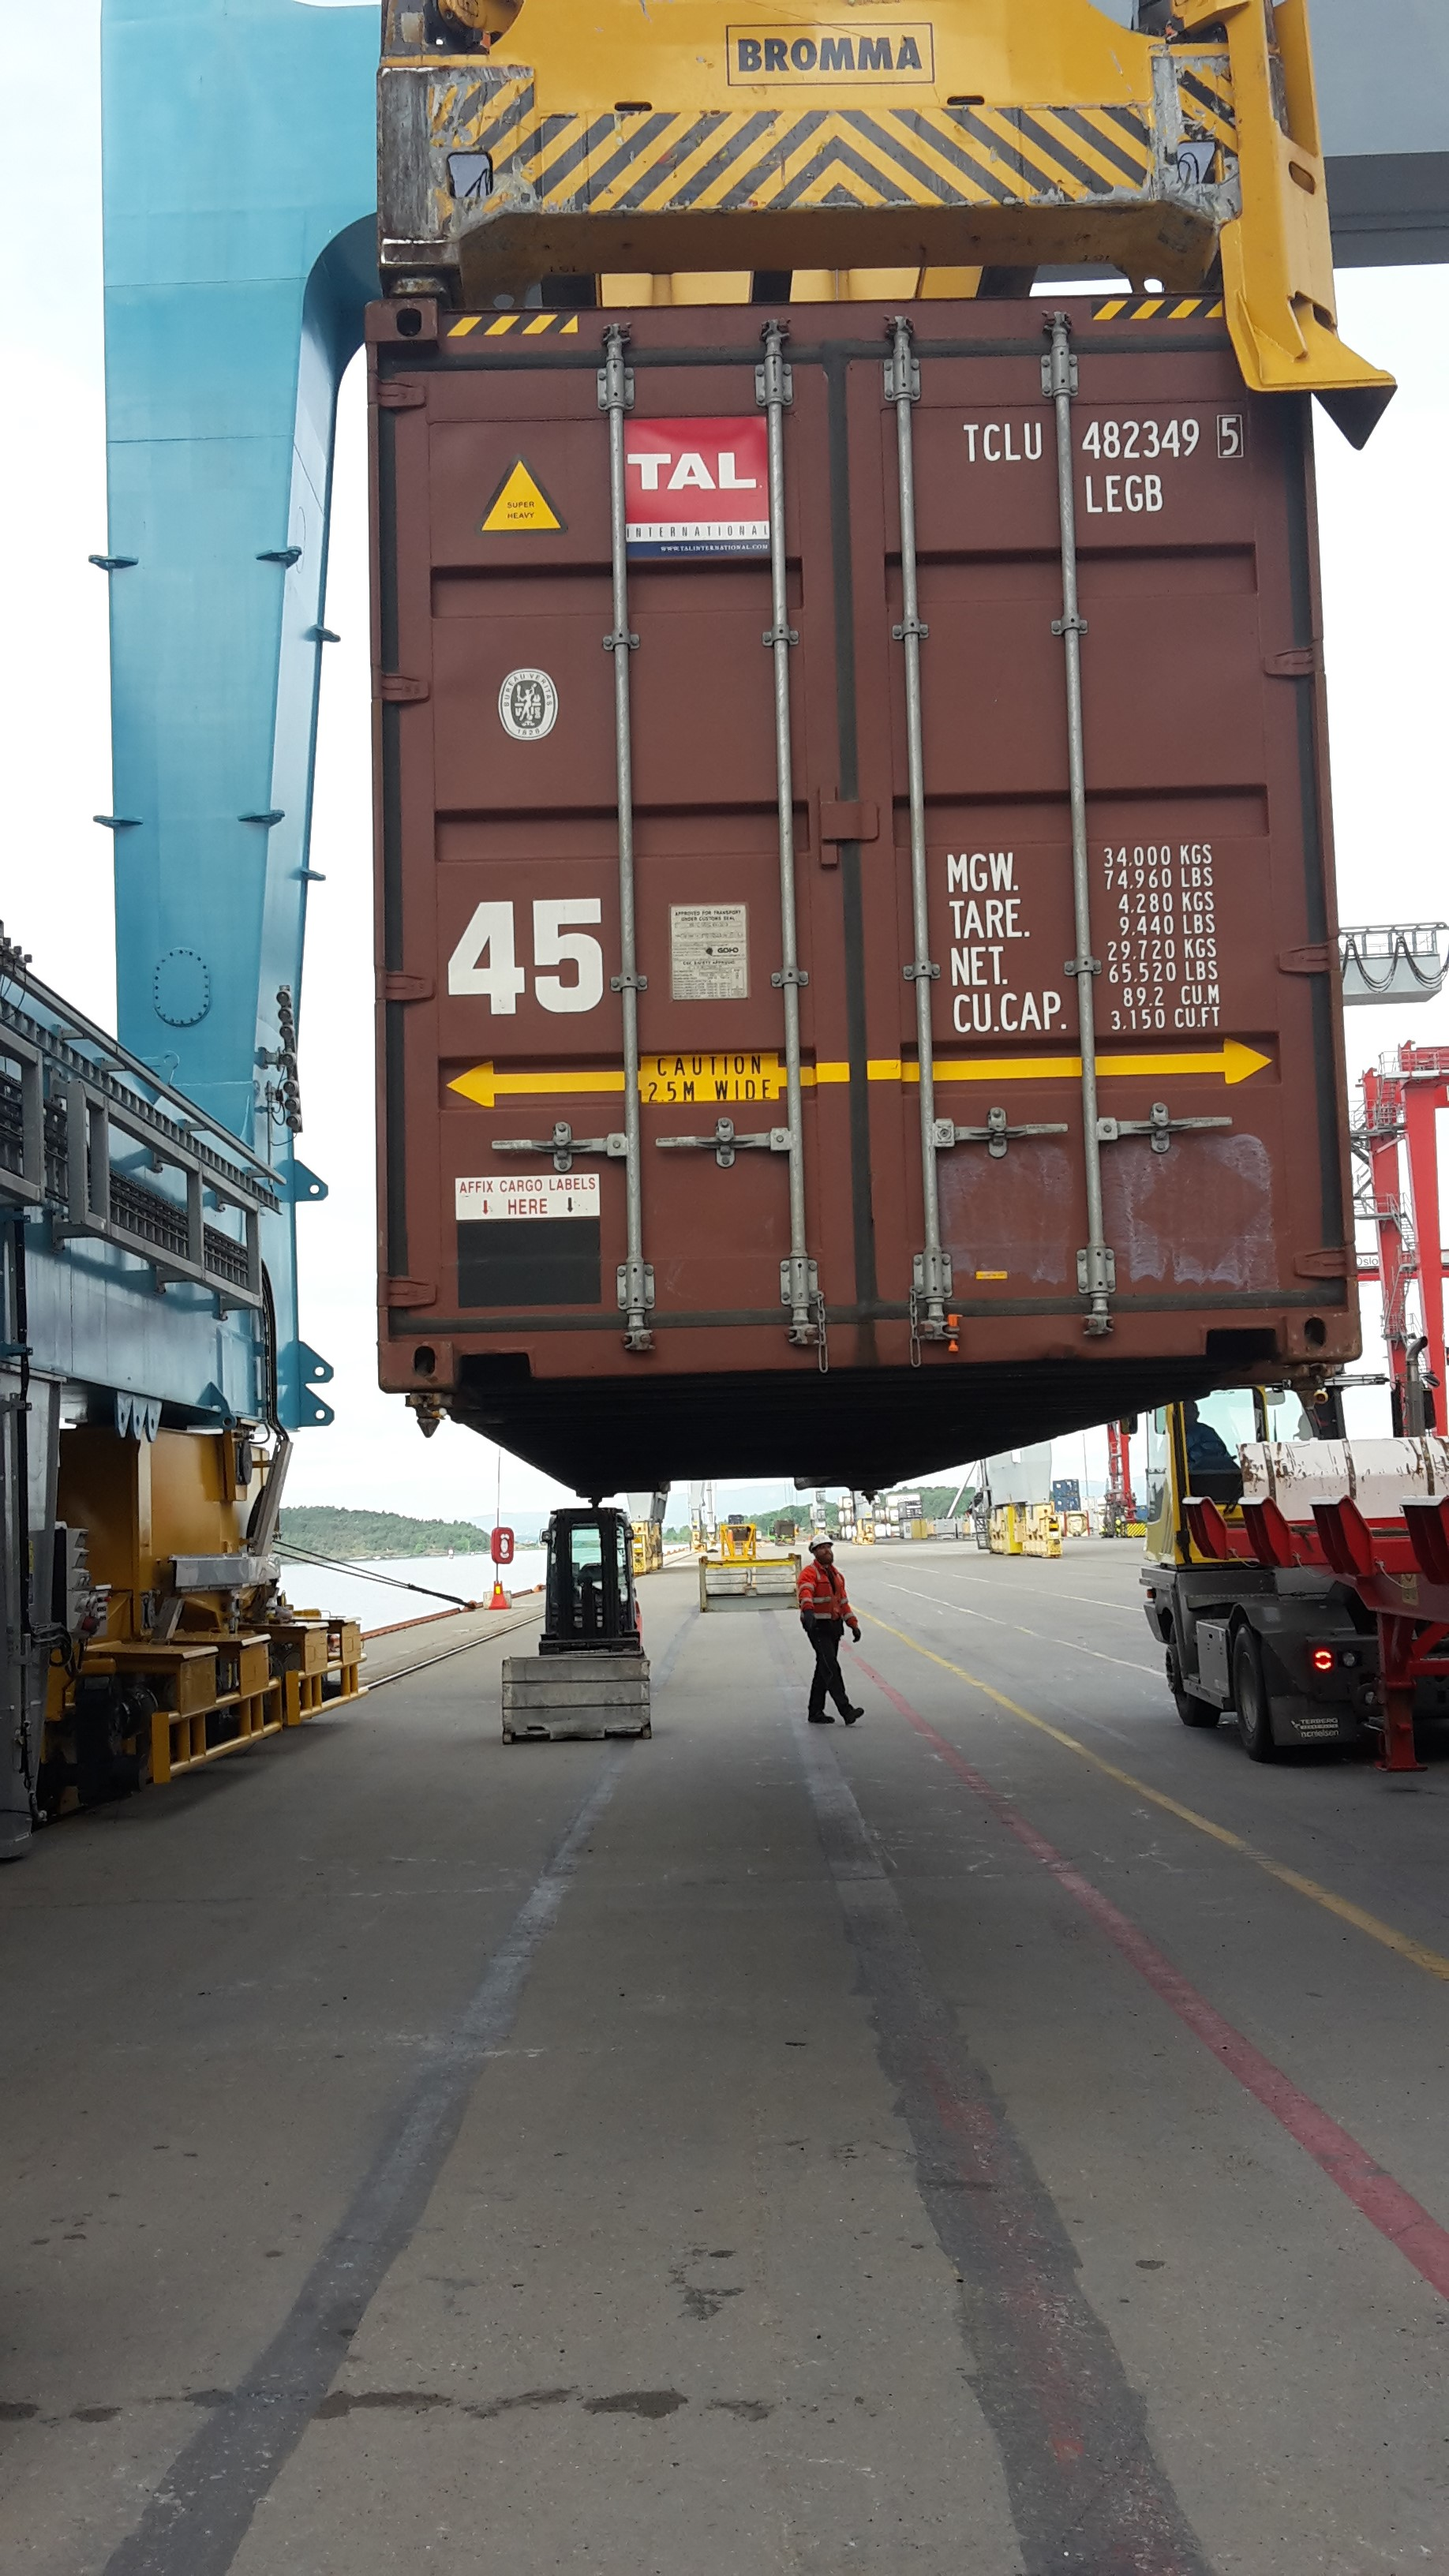container_door: (373, 301, 1325, 1362)
